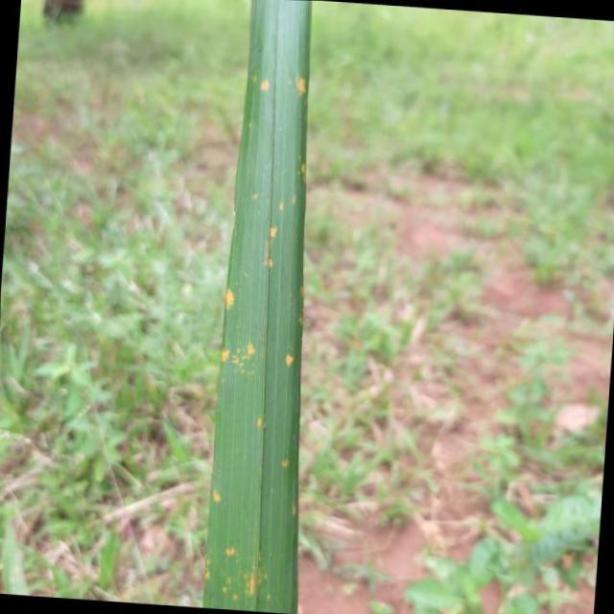Kalium: (207, 0, 314, 614)
